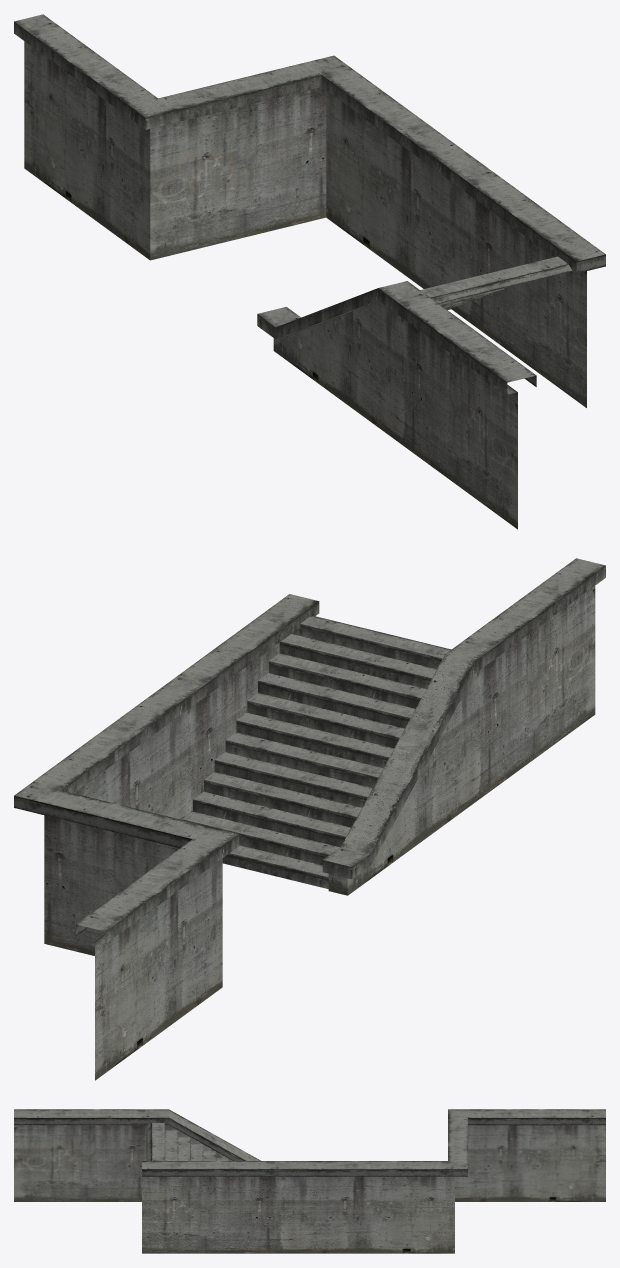
The model's file is UNIConcrete_wall_v1_S_R_2.002.glb.
3 views of the same model, one above another, from view 1: azimuth 30°, elevation 25°; view 2: azimuth 150°, elevation 25°; view 3: azimuth 270°, elevation 25° (orthographic). The views are drawn at different scales.
Visible parts, largest first — view 1: UNIConcrete_wall_v1_S_R_2.002; view 2: UNIConcrete_wall_v1_S_R_2.002; view 3: UNIConcrete_wall_v1_S_R_2.002.
Boxes of the visible parts, x1,y1,x2,y2 form: UNIConcrete_wall_v1_S_R_2.002: (14,14,605,529); UNIConcrete_wall_v1_S_R_2.002: (14,558,605,1080); UNIConcrete_wall_v1_S_R_2.002: (14,1109,605,1253).
Size of the model in its own units: 2.4 by 1.67 by 10.
1 material, 1 textured.
